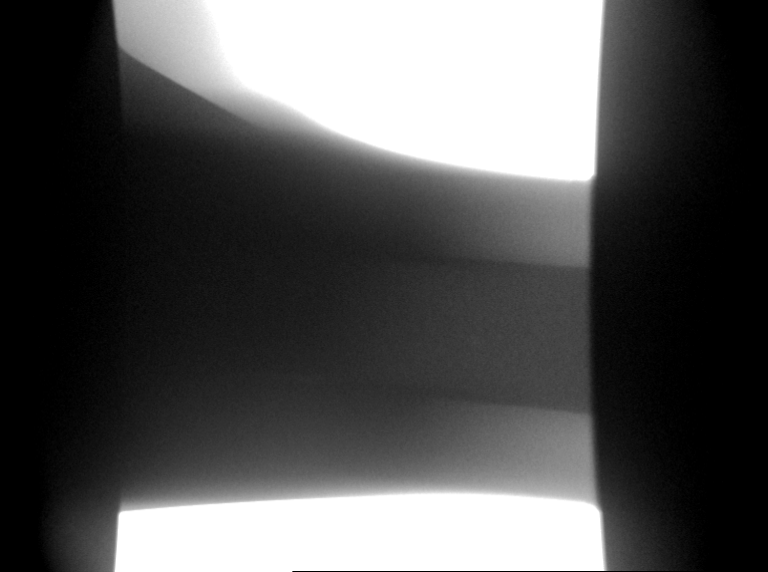defect: (463, 327, 495, 350)
